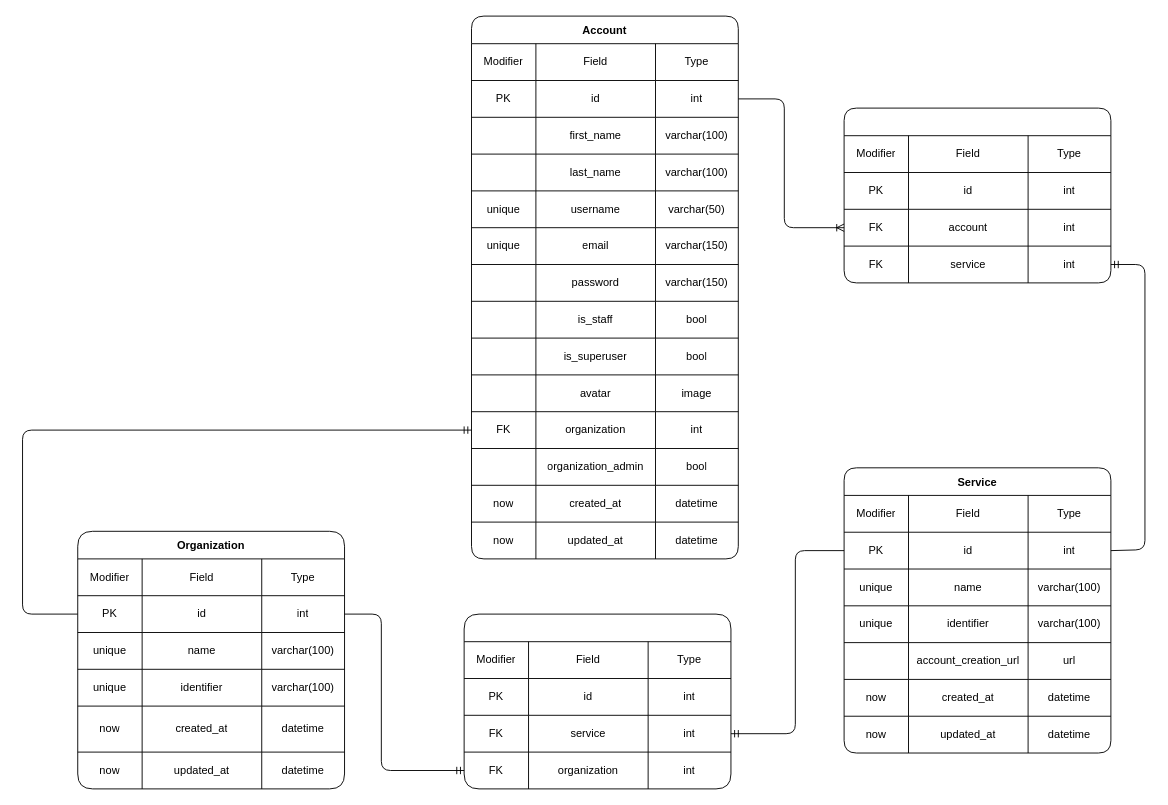
Some shapes in this 1168 by 805 pixel diagram are drawn without their labels. Here are the shapes that lost their labels. From the top down, the box of each, then its label:
(843, 107, 1111, 283): Connection
(463, 613, 731, 789): Subscription
